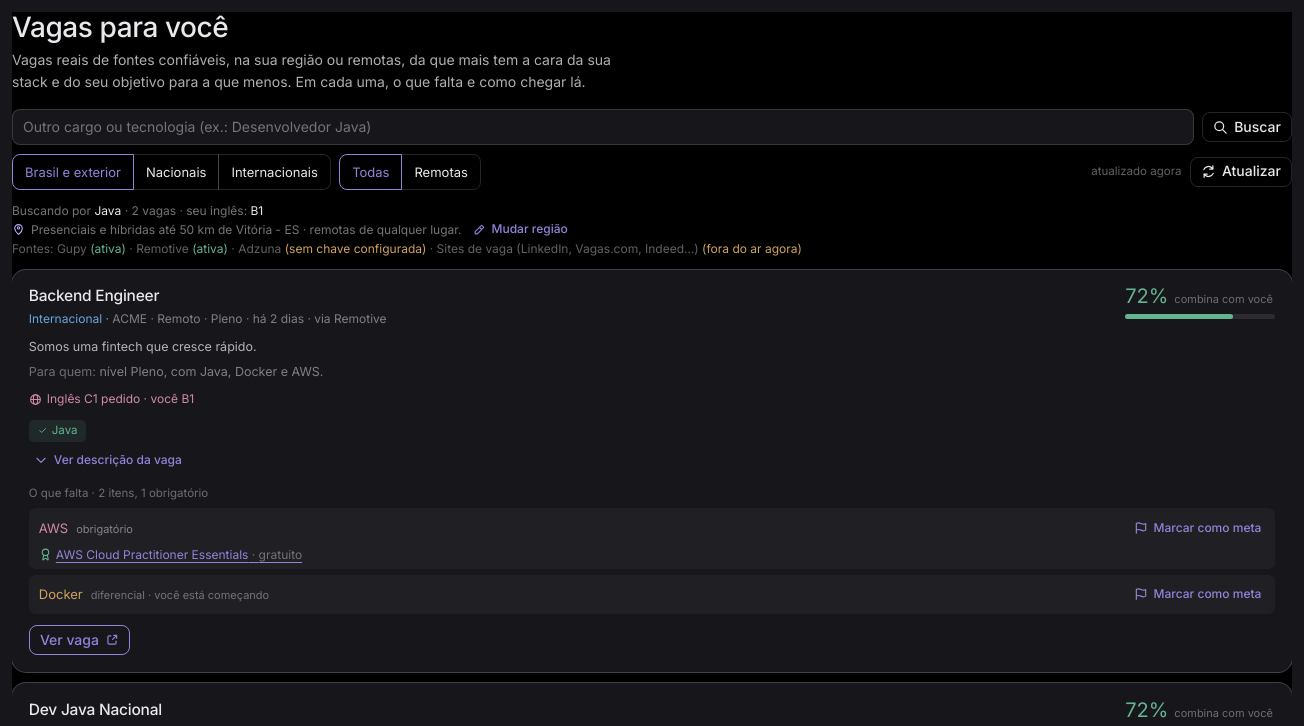
vagas › filtra internacionais na lista que já está aqui e mostra o inglês contra o seu nível
Expected: the text "Inglês C1 pedido · você B1" is shown, x1=29 y1=391 x2=194 y2=406
Expected: the text "Internacional ·" is shown, x1=29 y1=311 x2=112 y2=326
Click the radio button labelled "Internacionais": (275, 172) x1=218 y1=154 x2=331 y2=190
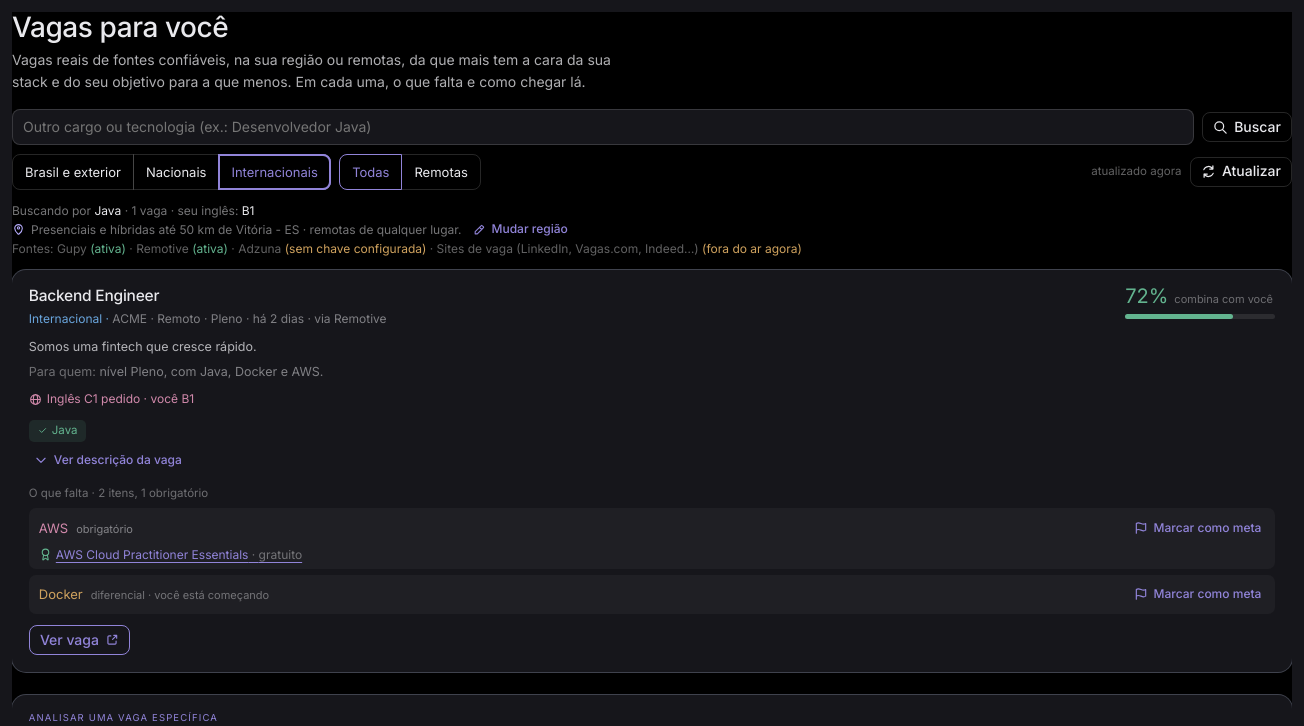
Expected: the heading "Backend Engineer" is shown, x1=29 y1=286 x2=159 y2=305
Now the heading "Dev Java Nacional" is gone
